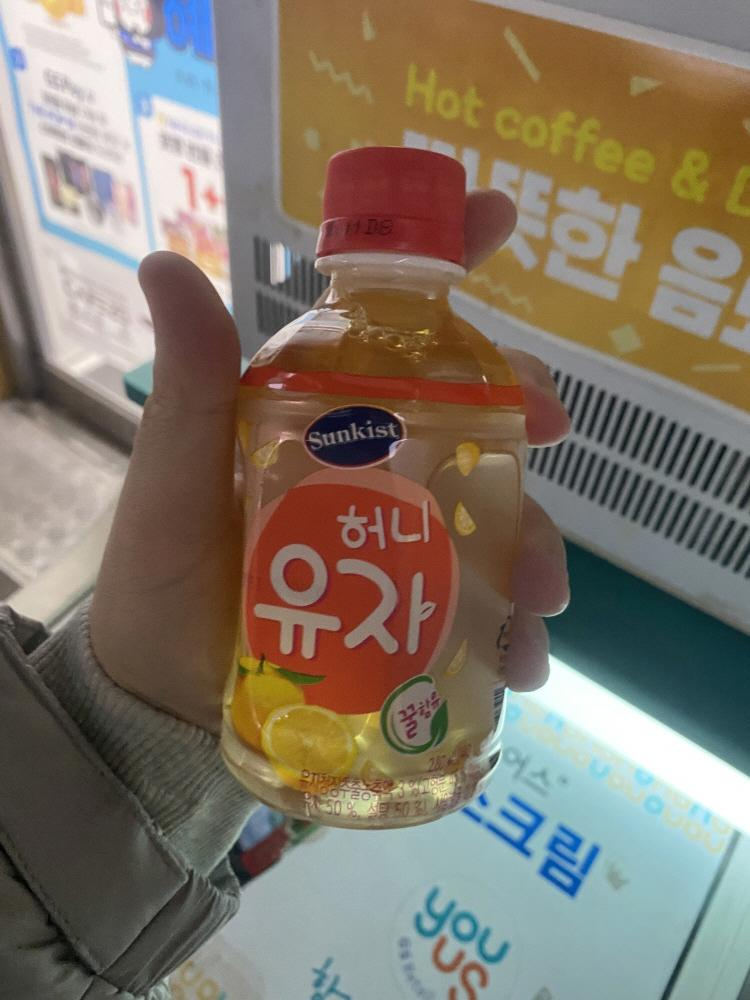honeyyuja: (183, 115, 527, 864)
